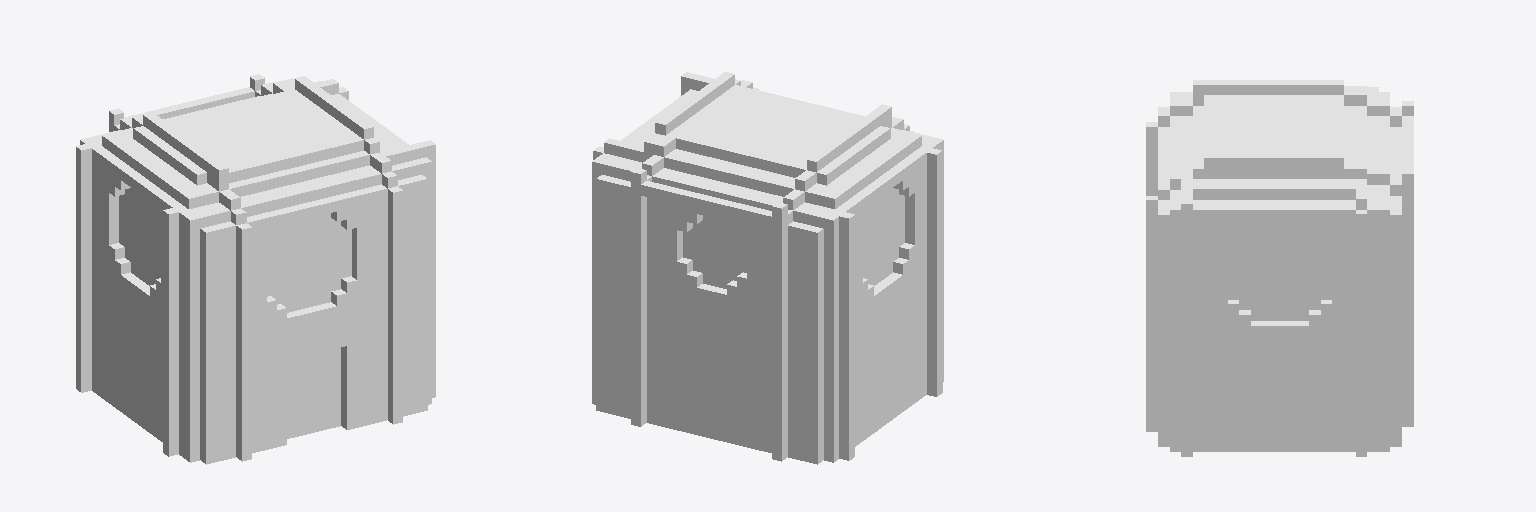
File: structure1.obj
3 views of the same model, side by side, from view 1: azimuth 30°, elevation 25°; view 2: azimuth 150°, elevation 25°; view 3: azimuth 270°, elevation 25° (orthographic).
Visible parts, largest first — view 1: object 1; view 2: object 1; view 3: object 1.
Boxes of the visible parts, box(x1,y1,x2,y2) form: object 1: box(76, 74, 435, 464); object 1: box(592, 72, 943, 464); object 1: box(1146, 80, 1413, 456).
Bounding box in the file's own units: 2.6 × 2.6 × 2.3.